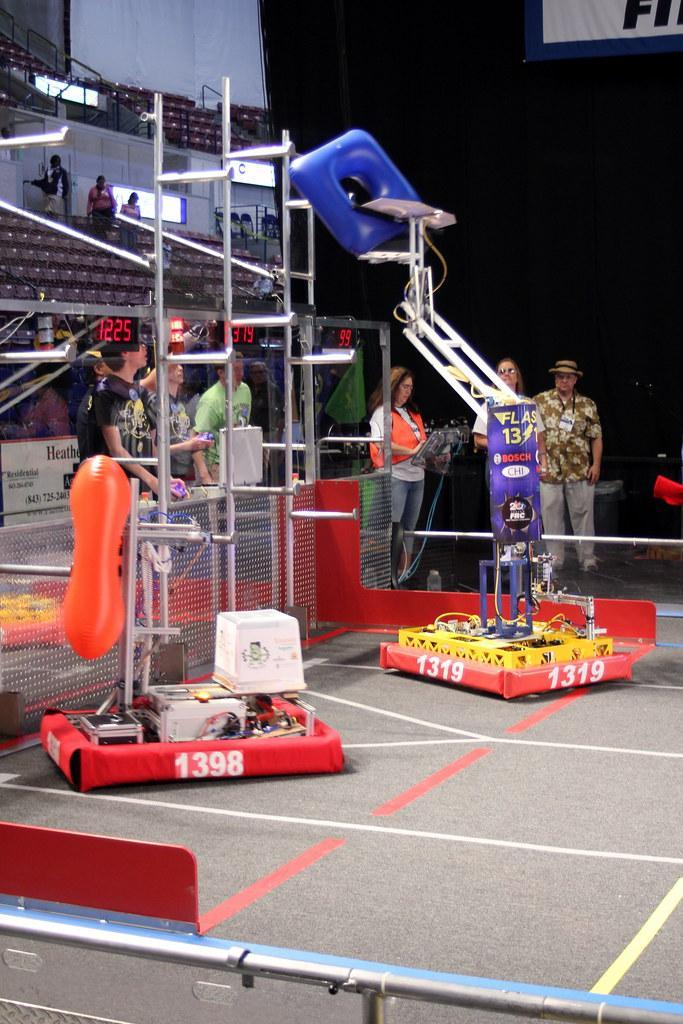robot: (359, 167, 644, 704), (24, 494, 356, 796)
